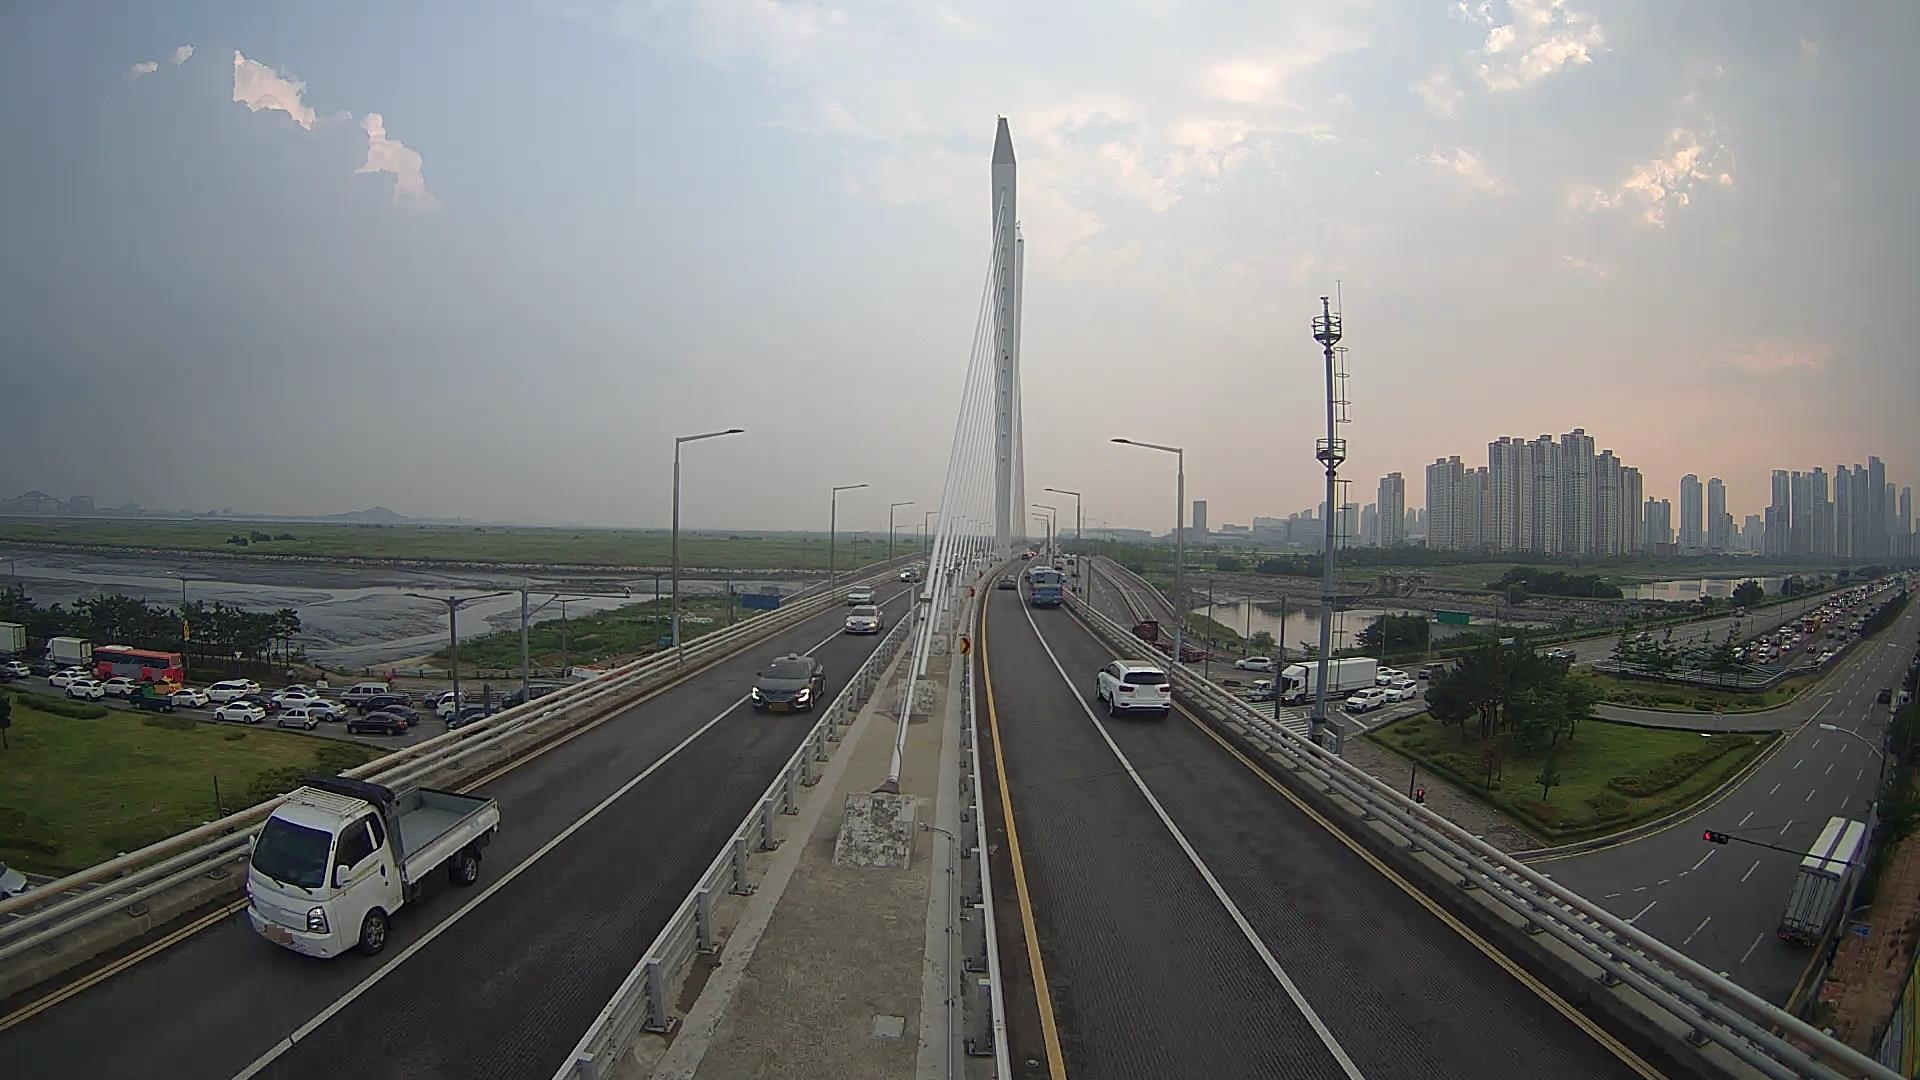정상차량: (246, 777, 500, 959)
